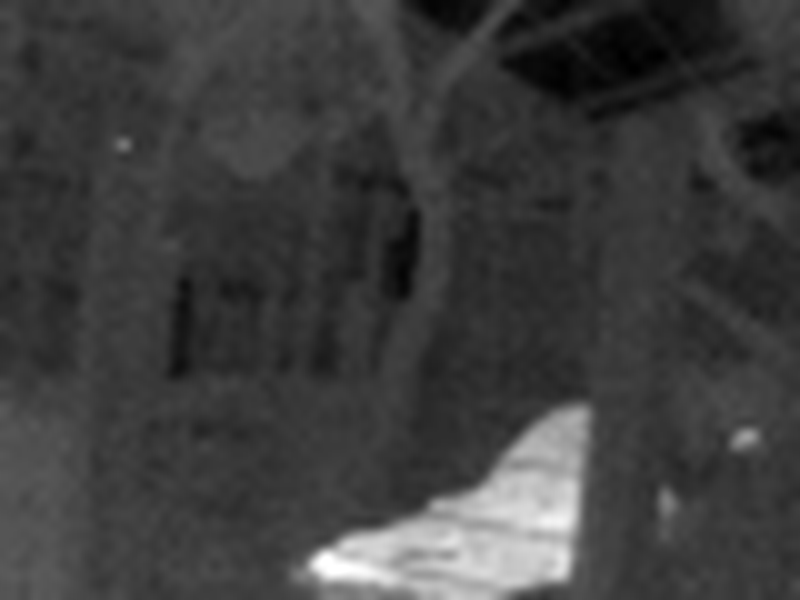elephant: (296, 396, 768, 600)
